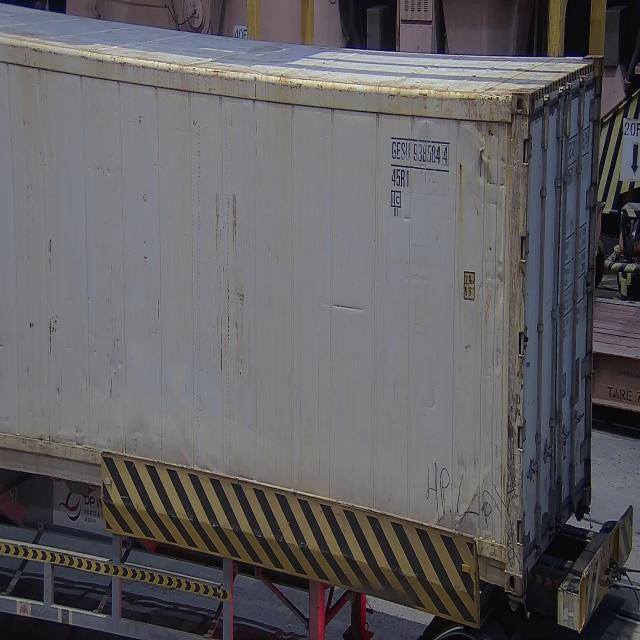rust: (508, 116, 531, 582), (443, 75, 536, 143)
